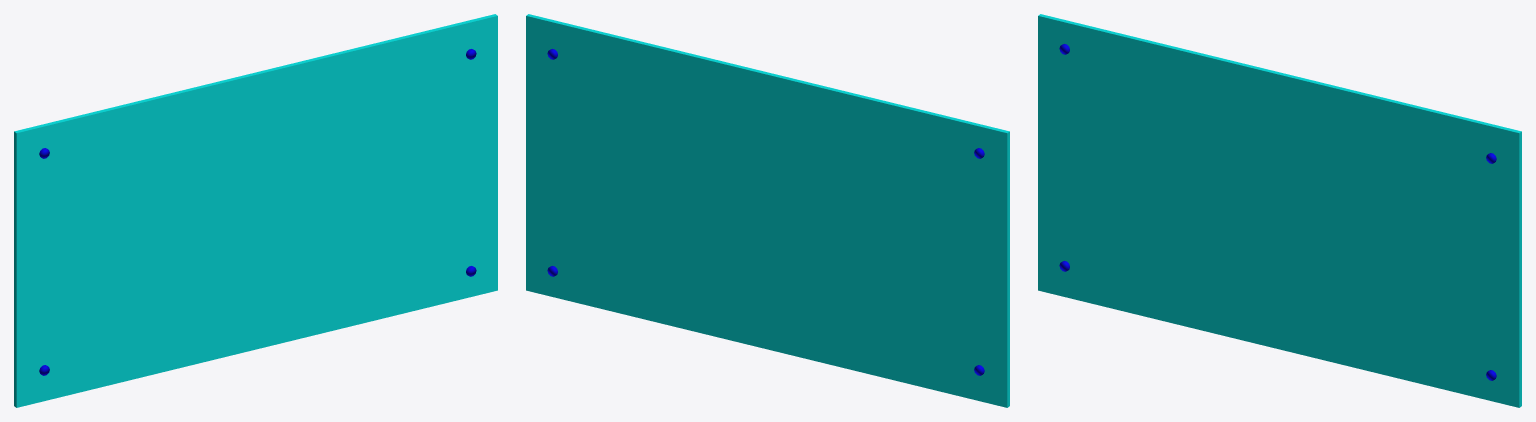
The model's file is cuadro_03_low.fbx.
3 views of the same model, side by side, from view 1: azimuth 30°, elevation 25°; view 2: azimuth 150°, elevation 25°; view 3: azimuth 330°, elevation 25° (orthographic).
Visible parts, largest first — view 1: cuadro_base; view 2: cuadro_base; view 3: cuadro_base.
Part boxes in pixels (left/top/right/bottom): cuadro_base: left=14, top=14, right=497, bottom=407; cuadro_base: left=526, top=14, right=1009, bottom=407; cuadro_base: left=1038, top=14, right=1521, bottom=407.
Bounding box in the file's own units: 110 × 60 × 2.
